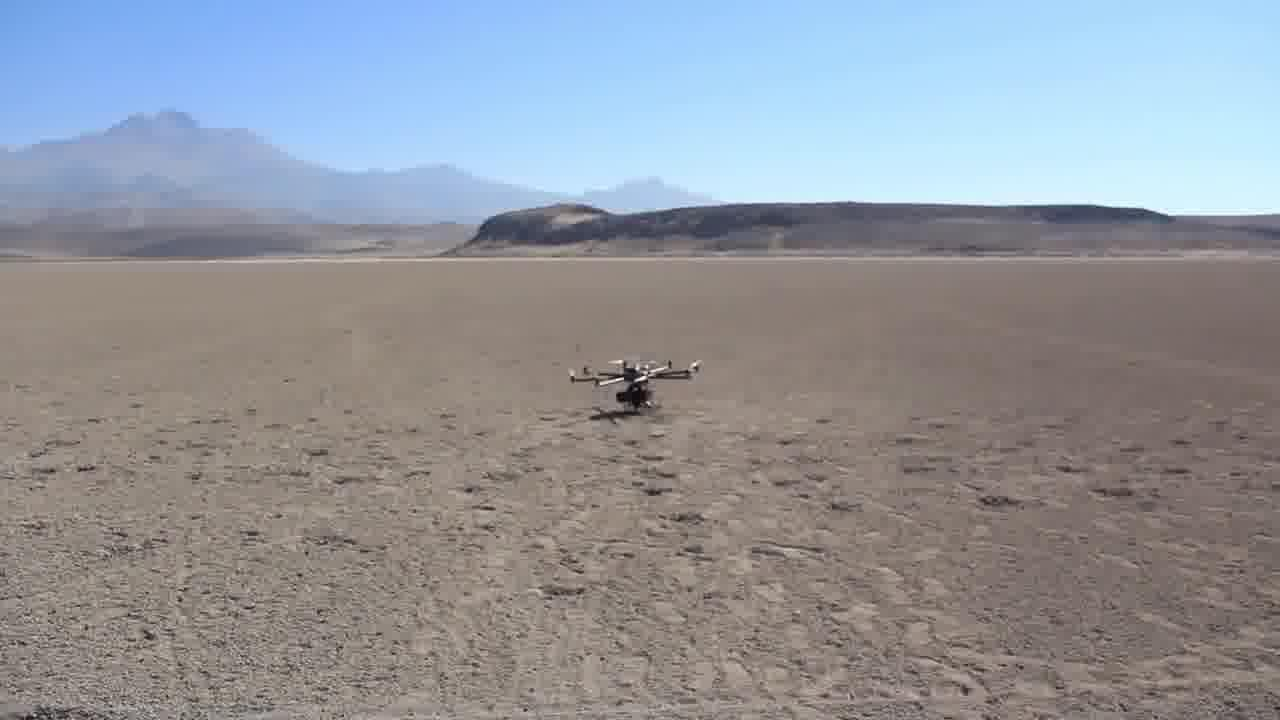drone: (563, 351, 708, 417)
